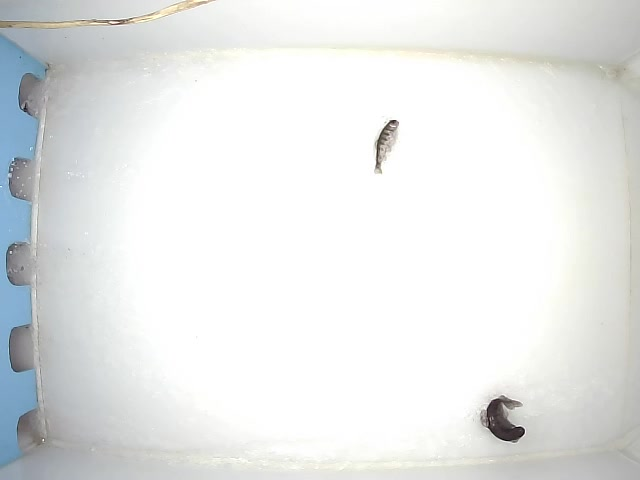fish: (479, 393, 526, 444), (371, 118, 399, 175)
